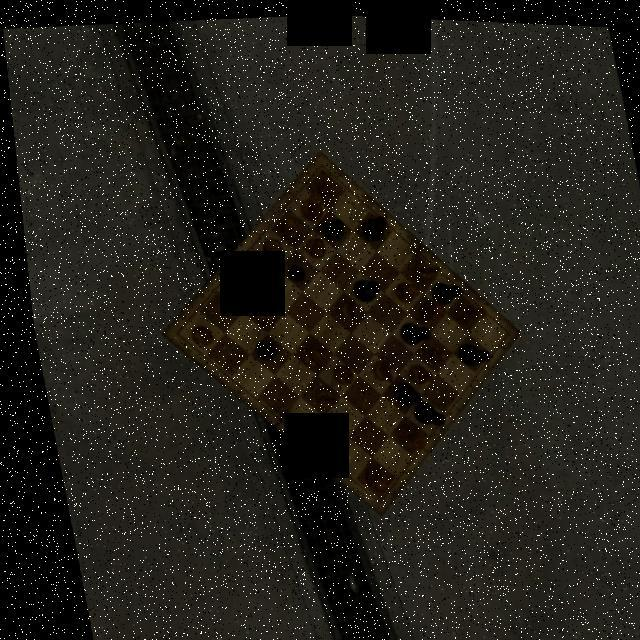chess-table-corners: (156, 316, 188, 344), (301, 151, 329, 180), (356, 482, 384, 509), (484, 318, 514, 342)
